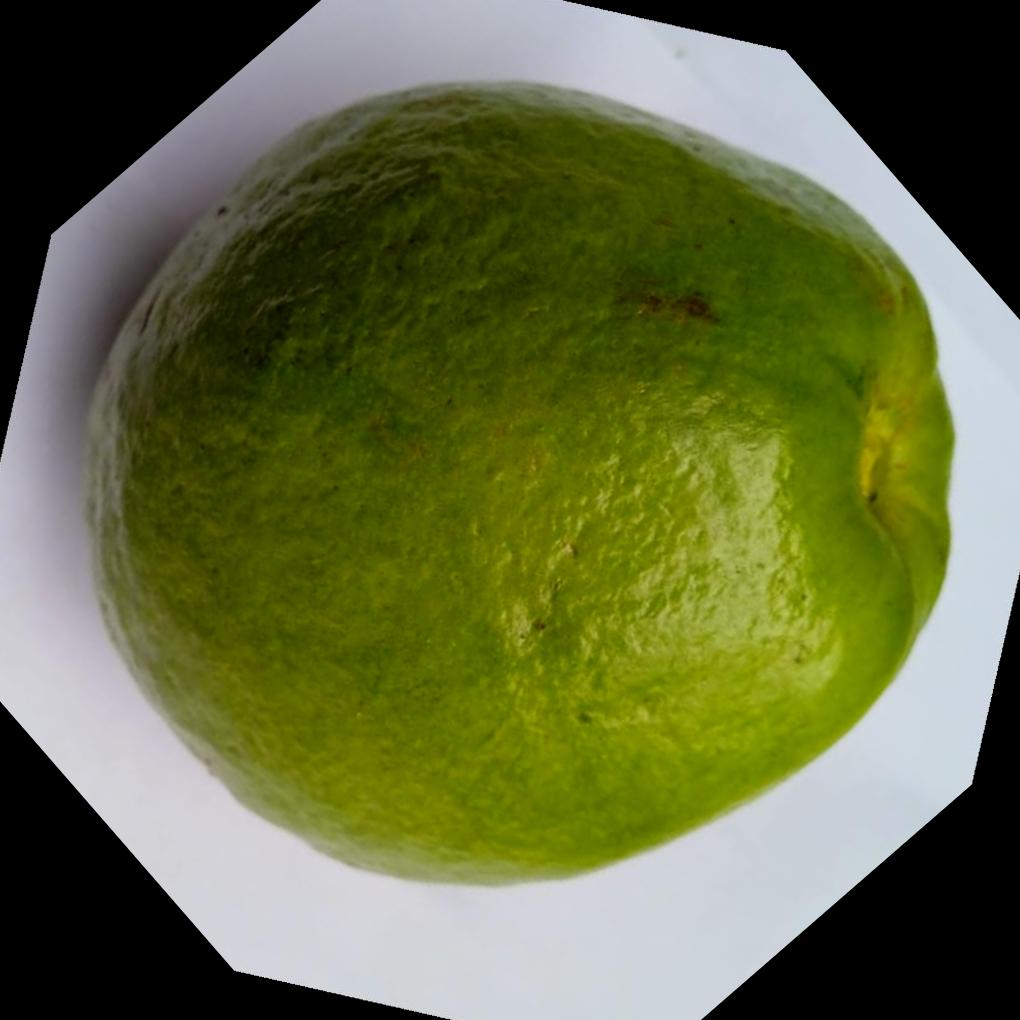FreshGuava: (83, 77, 961, 888)
